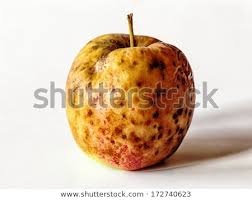damaged_apple: (61, 34, 200, 171)
